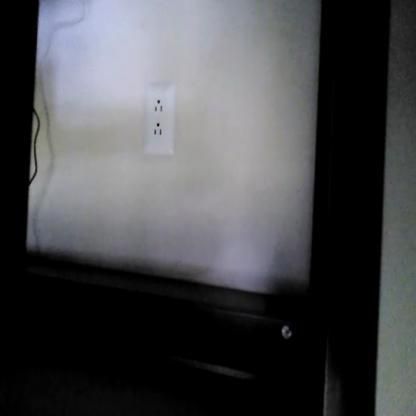OUTLET: (143, 80, 175, 157)
